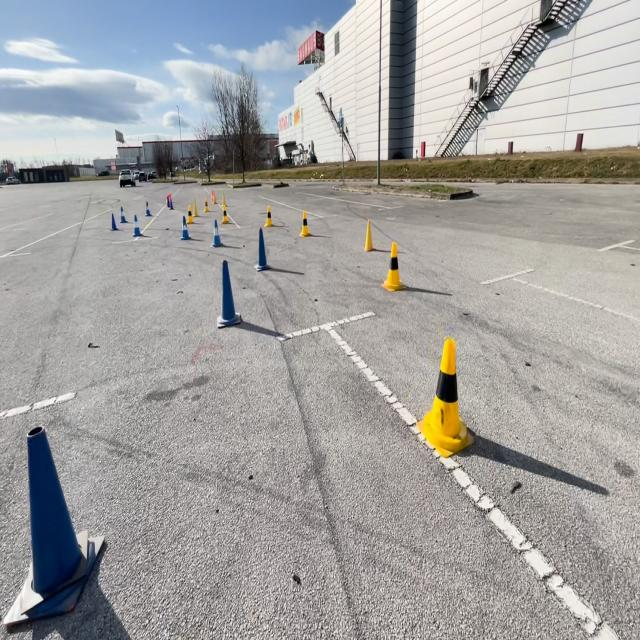blue_cone: (1, 424, 107, 635), (216, 257, 242, 328), (254, 226, 271, 271), (209, 218, 224, 248), (179, 213, 191, 240), (116, 202, 126, 227), (131, 214, 142, 236), (109, 210, 119, 231), (144, 200, 152, 218)
orange_cone: (166, 192, 173, 210), (211, 188, 218, 205)
yellow_cone: (414, 334, 474, 458), (382, 241, 406, 291), (296, 208, 312, 238), (362, 217, 374, 252), (262, 204, 275, 227), (220, 197, 231, 224), (186, 202, 196, 223), (202, 195, 210, 213)
